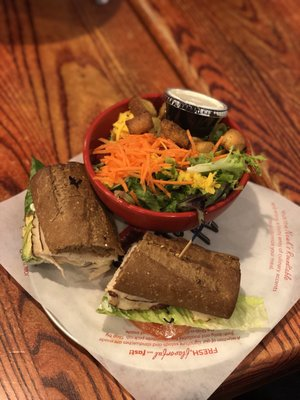soup: (96, 231, 245, 338), (20, 160, 125, 284)
sushi: (82, 93, 263, 234), (161, 88, 229, 140)
